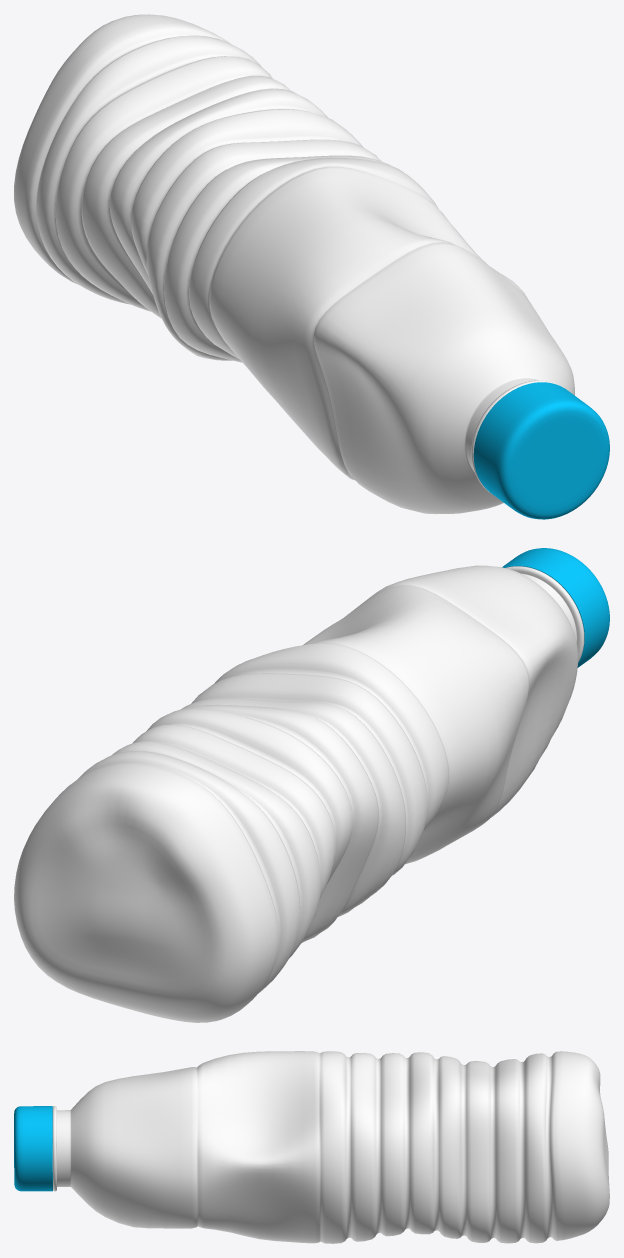
File: chai1.glb
3 views of the same model, one above another, from view 1: azimuth 30°, elevation 25°; view 2: azimuth 150°, elevation 25°; view 3: azimuth 270°, elevation 25° (orthographic). The views are drawn at different scales.
Parts seen in each view (by area): view 1: Beat_Water_Bottle_WaterBottle1_0, Bottle_Cap_BottleCap_0; view 2: Beat_Water_Bottle_WaterBottle1_0, Bottle_Cap_BottleCap_0; view 3: Beat_Water_Bottle_WaterBottle1_0, Bottle_Cap_BottleCap_0.
Boxes of the visible parts, x1=… form: Beat_Water_Bottle_WaterBottle1_0: x1=14, y1=14, x2=574, y2=514; Bottle_Cap_BottleCap_0: x1=473, y1=382, x2=609, y2=519; Beat_Water_Bottle_WaterBottle1_0: x1=14, y1=565, x2=584, y2=1022; Bottle_Cap_BottleCap_0: x1=502, y1=548, x2=609, y2=667; Beat_Water_Bottle_WaterBottle1_0: x1=52, y1=1051, x2=609, y2=1243; Bottle_Cap_BottleCap_0: x1=14, y1=1106, x2=52, y2=1191.
Size of the model in its own units: 0.0346 by 0.0345 by 0.1068.
